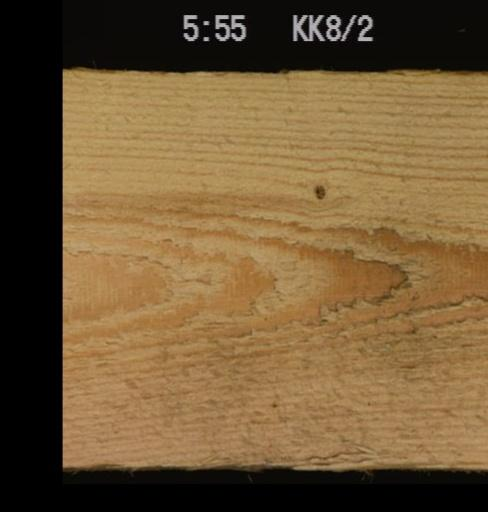dry_knot: (313, 182, 323, 193)
